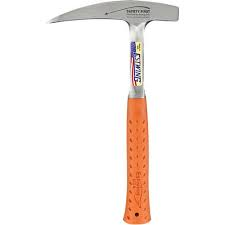hammer: (47, 1, 180, 225)
